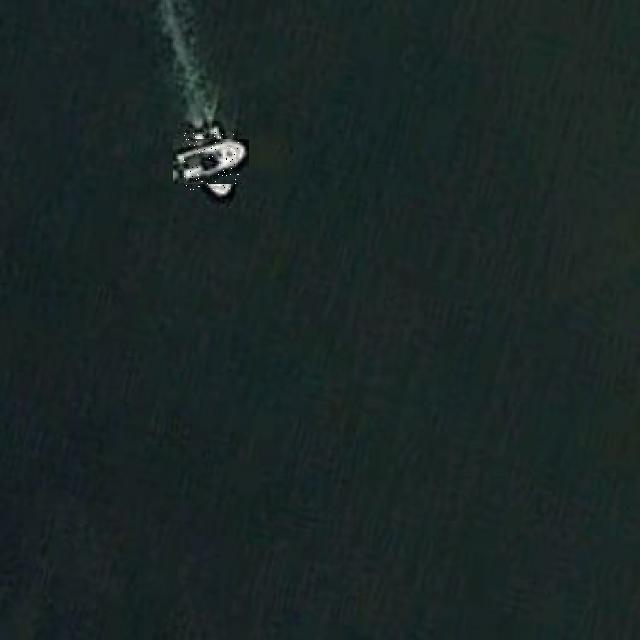boat: (181, 130, 242, 192)
